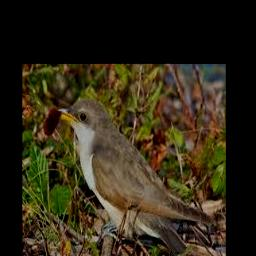Cuckoo: (57, 99, 223, 256)
